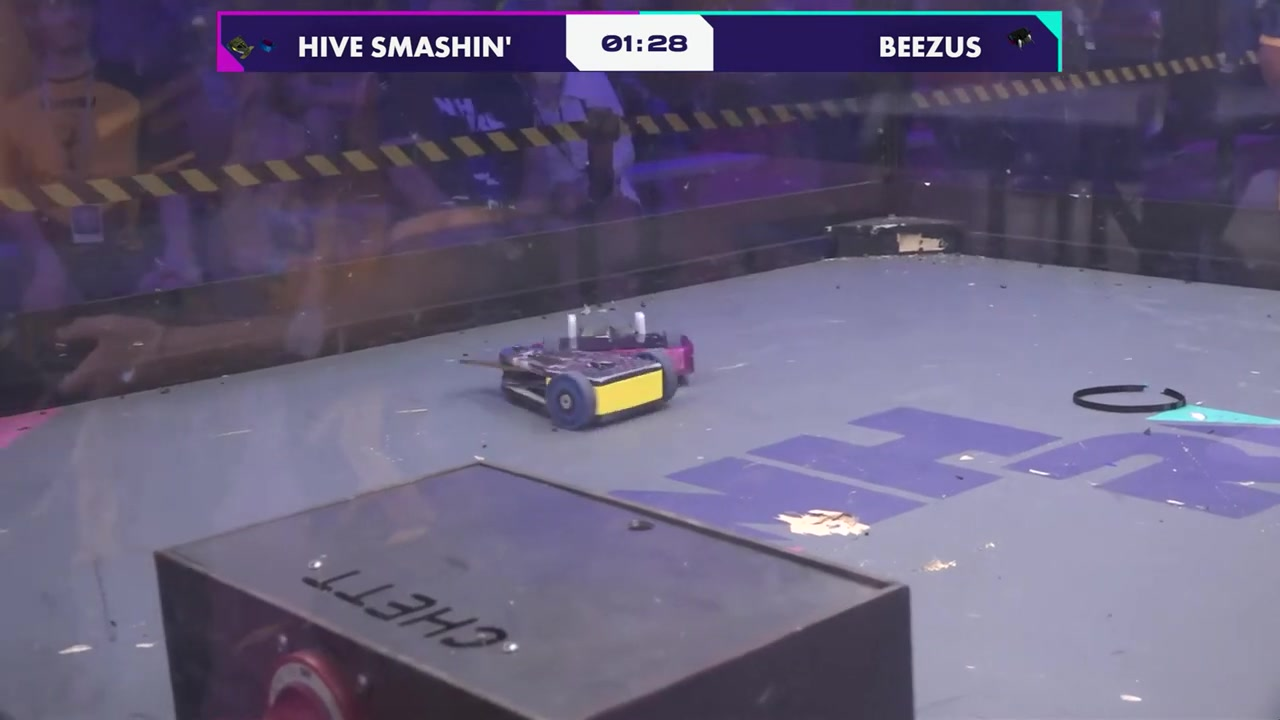belt: (1064, 377, 1193, 422)
combatbot: (456, 338, 682, 431), (547, 308, 700, 387)
housebot: (149, 461, 922, 720)
